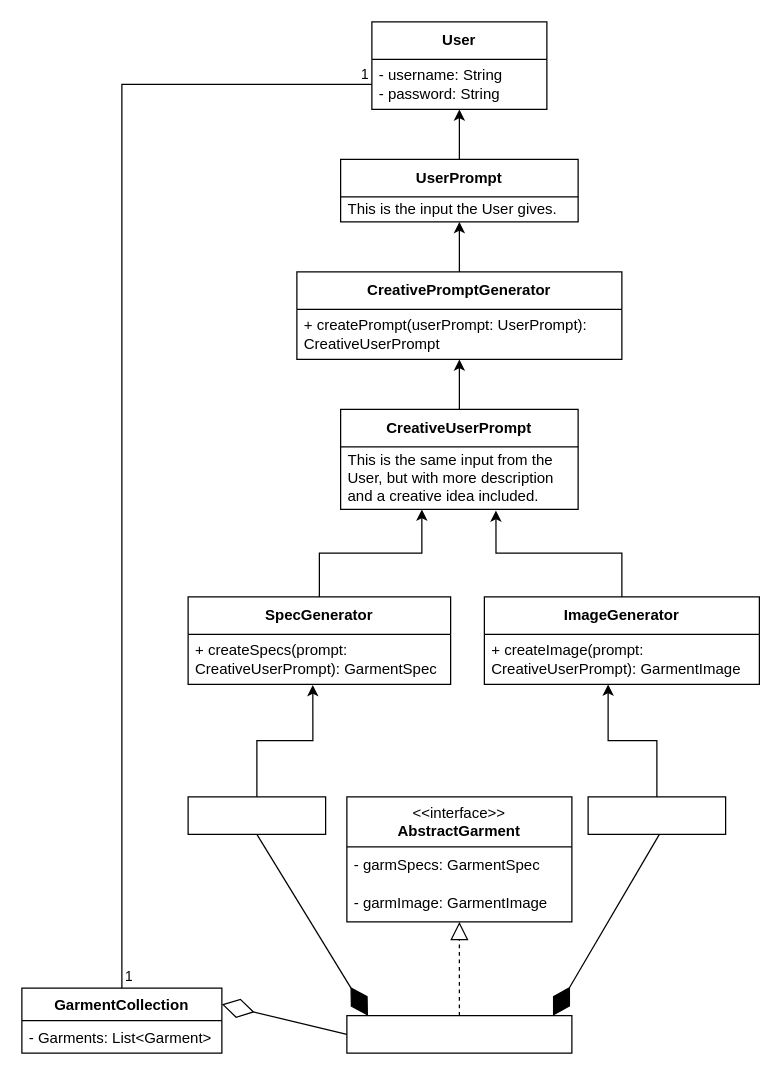
Image size: 781x1089. Some labels were removed from this diagram. Each missing label, with the centre of its shape:
Garment: point 459,1033
GarmentImage: point 656,815
GarmentSpec: point 256,815
